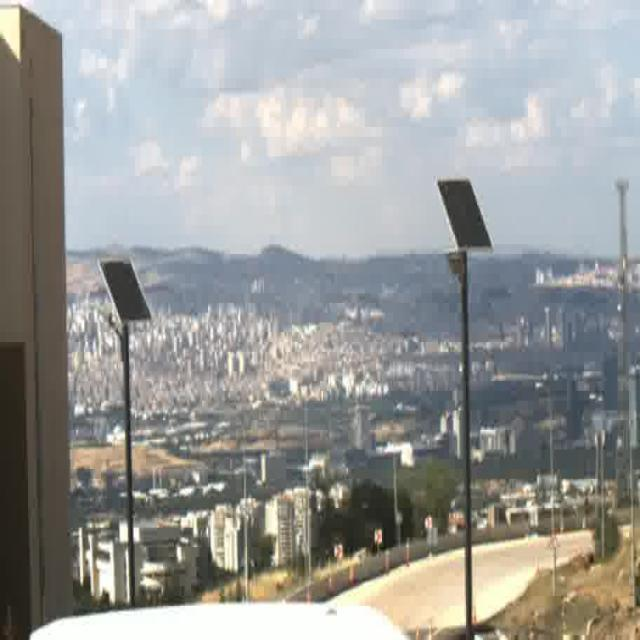Bus: (26, 602, 411, 640)
